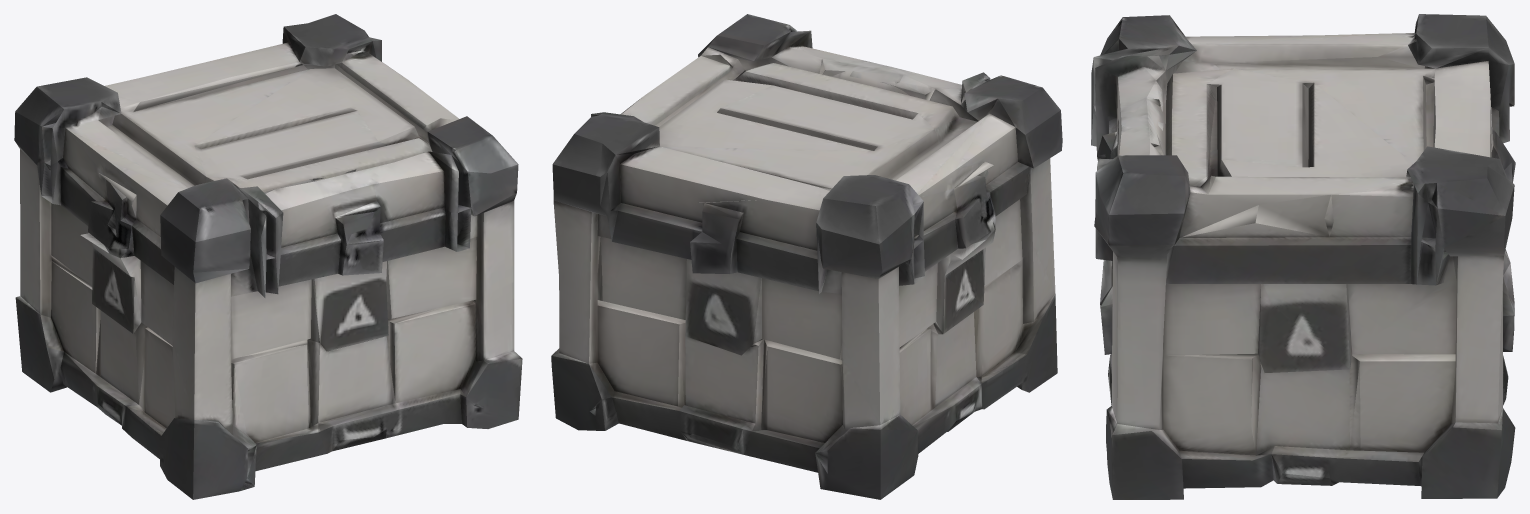
Rendered from m2ArenaCrate.glb.
3 renders of one model, left to right at view 1: azimuth 30°, elevation 25°; view 2: azimuth 150°, elevation 25°; view 3: azimuth 270°, elevation 25°, orthographic. The views are drawn at different scales.
Parts seen in each view (by area): view 1: model; view 2: model; view 3: model.
Boxes of the visible parts, x1,y1,x2,y2 form: model: (14,14,522,499); model: (551,14,1062,499); model: (1091,14,1515,499).
Size of the model in its own units: 1.89 by 1.53 by 1.85.
Materials: 1 (1 with a texture image).
